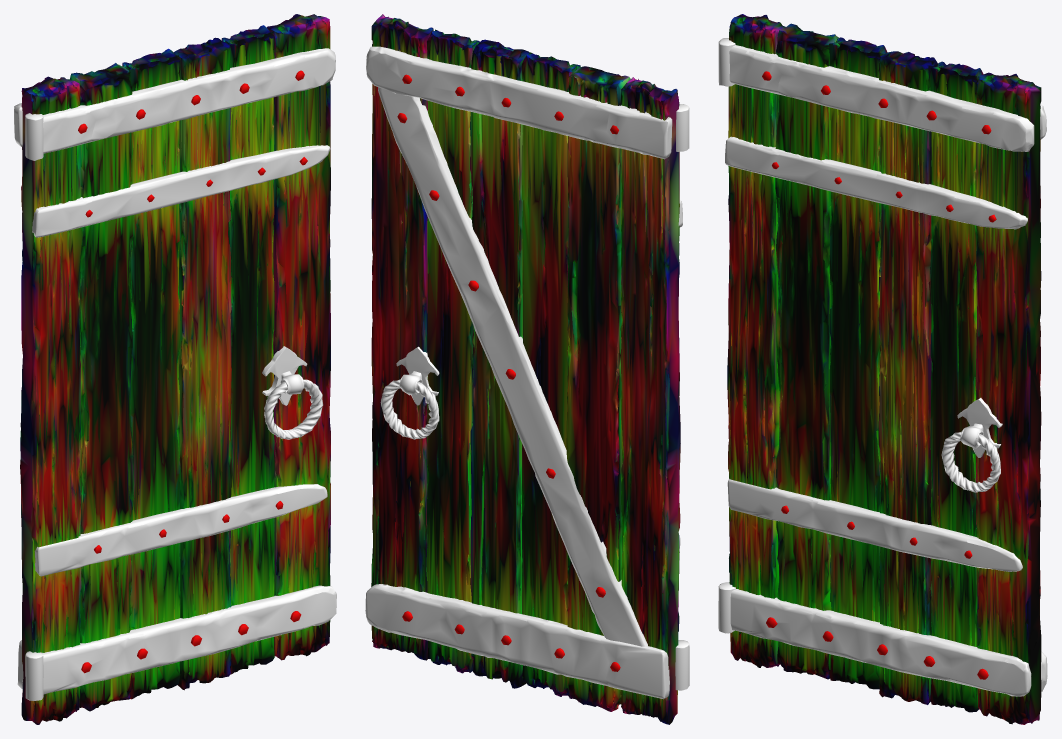
The model's file is SM_Reinforced_Door.fbx.
The picture shows the model from 3 angles, left to right: view 1: azimuth 30°, elevation 25°; view 2: azimuth 150°, elevation 25°; view 3: azimuth 330°, elevation 25°; orthographic projection.
Parts seen in each view (by area): view 1: SM_Reinforced_Door_LOD0; view 2: SM_Reinforced_Door_LOD0; view 3: SM_Reinforced_Door_LOD0.
Part boxes in pixels (bbox=[...]): SM_Reinforced_Door_LOD0: bbox=[14, 14, 336, 724]; SM_Reinforced_Door_LOD0: bbox=[365, 14, 689, 724]; SM_Reinforced_Door_LOD0: bbox=[718, 14, 1047, 724].
Size of the model in its own units: 108 by 23.63 by 215.
